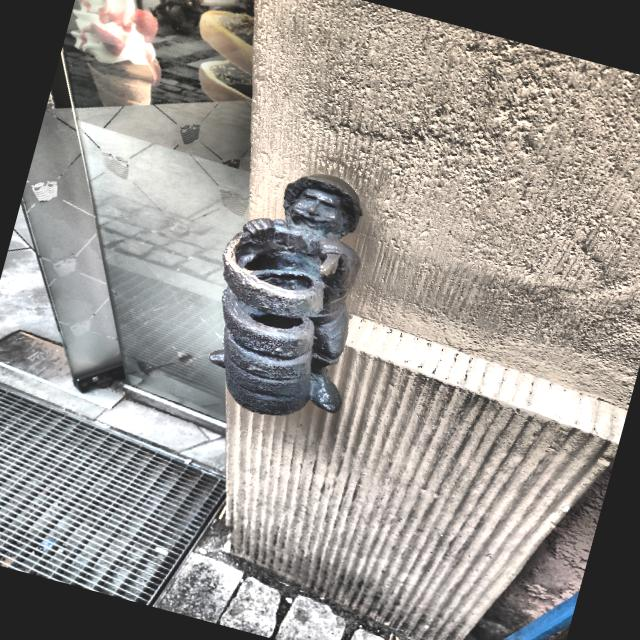Czimnejek: (210, 175, 360, 415)
